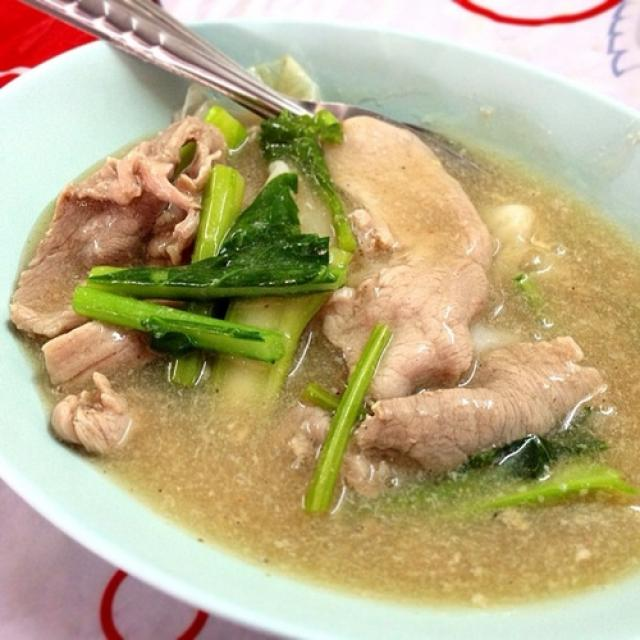面条主食: (23, 42, 621, 621)
